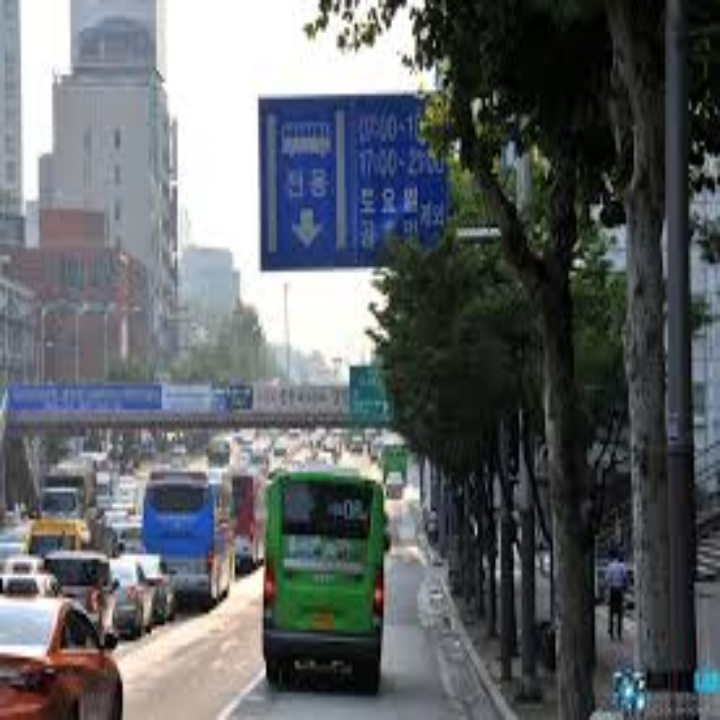bus: (278, 117, 333, 160)
